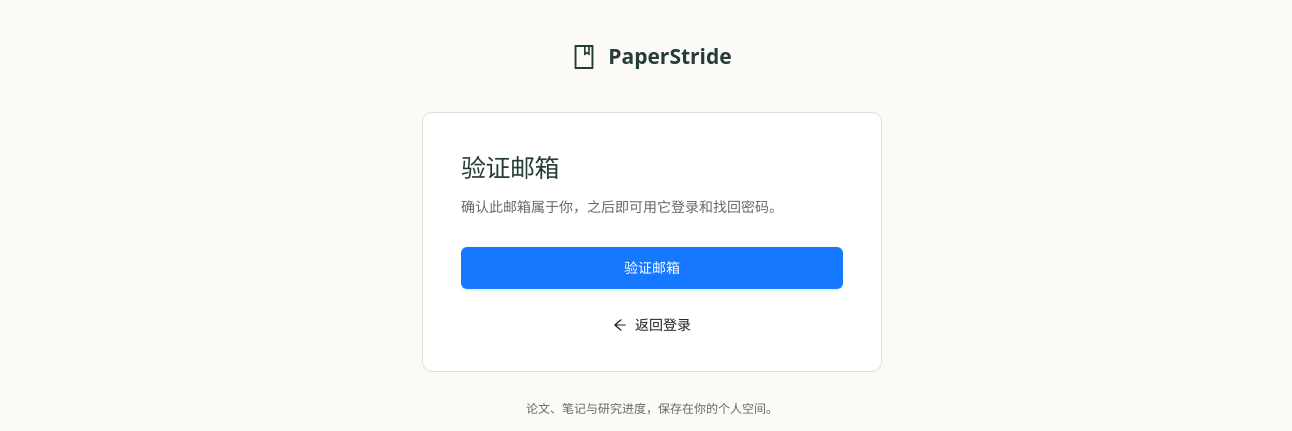
Test case: a verification link waits for confirmation and preserves the signed-in workspace
Check: the heading "验证邮箱" is shown, box 461,150 -> 559,184
Click the button "验证邮箱".
click(652, 268)  # box 461,247 -> 843,289
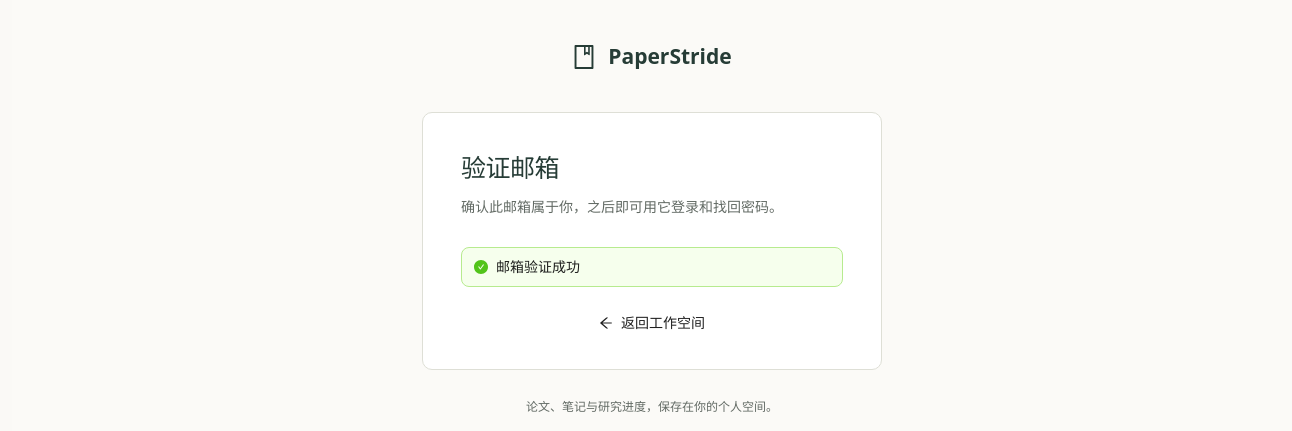
Check: the text "邮箱验证成功" is shown, box 496,258 -> 580,275
Click the button "返回工作空间".
click(652, 323)  # box 583,307 -> 721,339
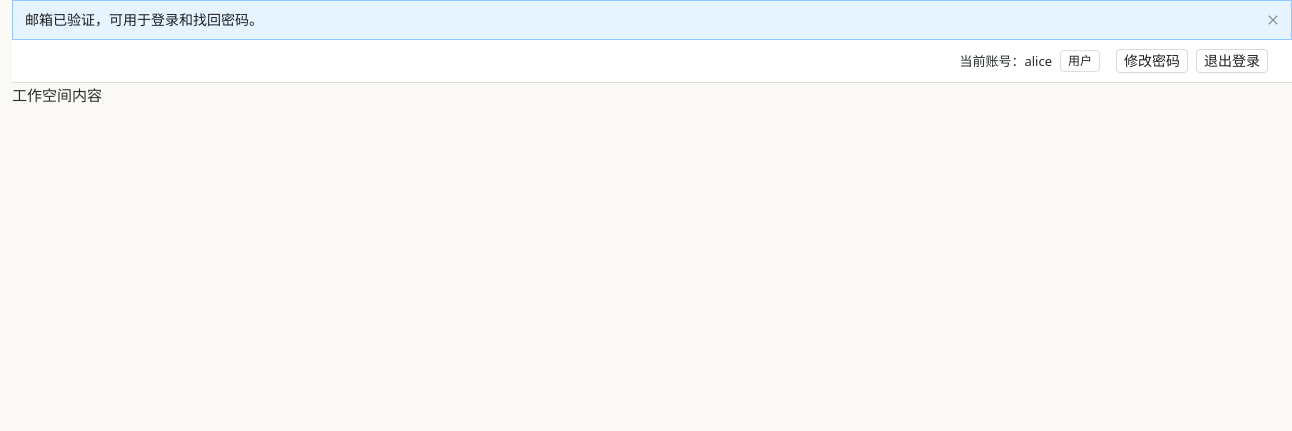
Check: the text "工作空间内容" is shown, box 12,85 -> 102,105
